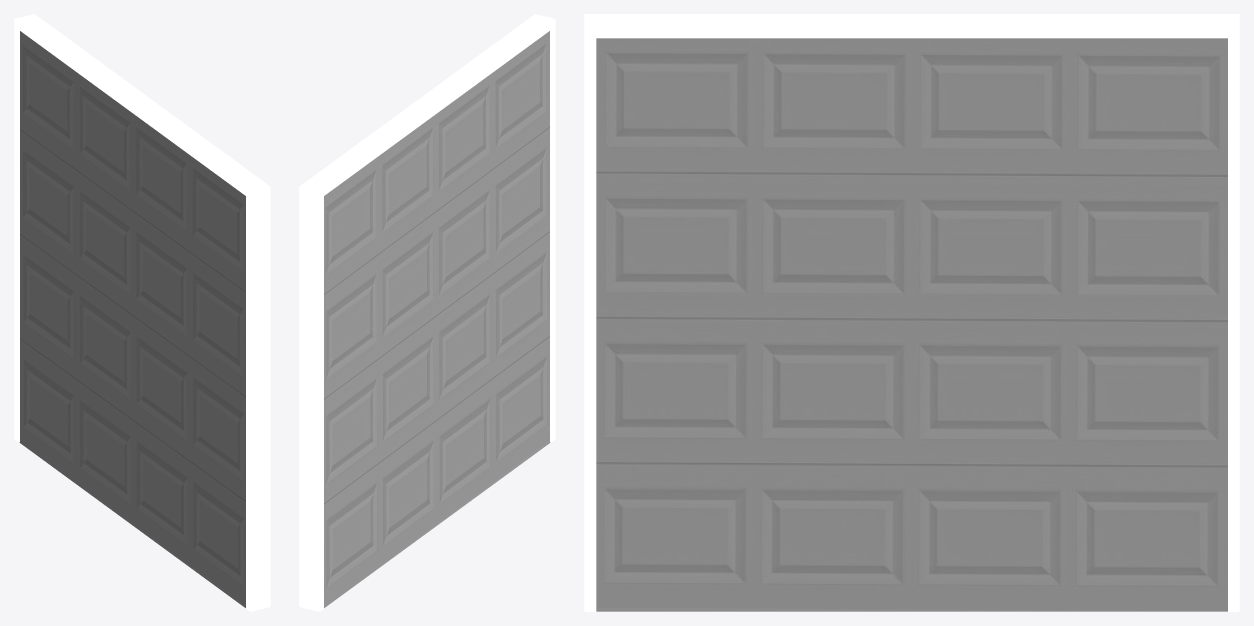
Rendered from sectional_door_old.29901305.gltf.
3 views of the same model, side by side, from view 1: azimuth 30°, elevation 25°; view 2: azimuth 150°, elevation 25°; view 3: azimuth 270°, elevation 25° (orthographic). The views are drawn at different scales.
Parts seen in each view (by area): view 1: Plane, trim; view 2: Plane, trim; view 3: Plane, trim.
Boxes of the visible parts, <box> form: Plane: <box>19,31,245,607</box>; trim: <box>14,14,270,611</box>; Plane: <box>324,31,550,607</box>; trim: <box>299,14,555,611</box>; Plane: <box>596,38,1227,611</box>; trim: <box>584,14,1239,611</box>.
Bounding box in the file's own units: 0.3037 × 6.01 × 6.1.
Materials: 2 (1 with a texture image).
